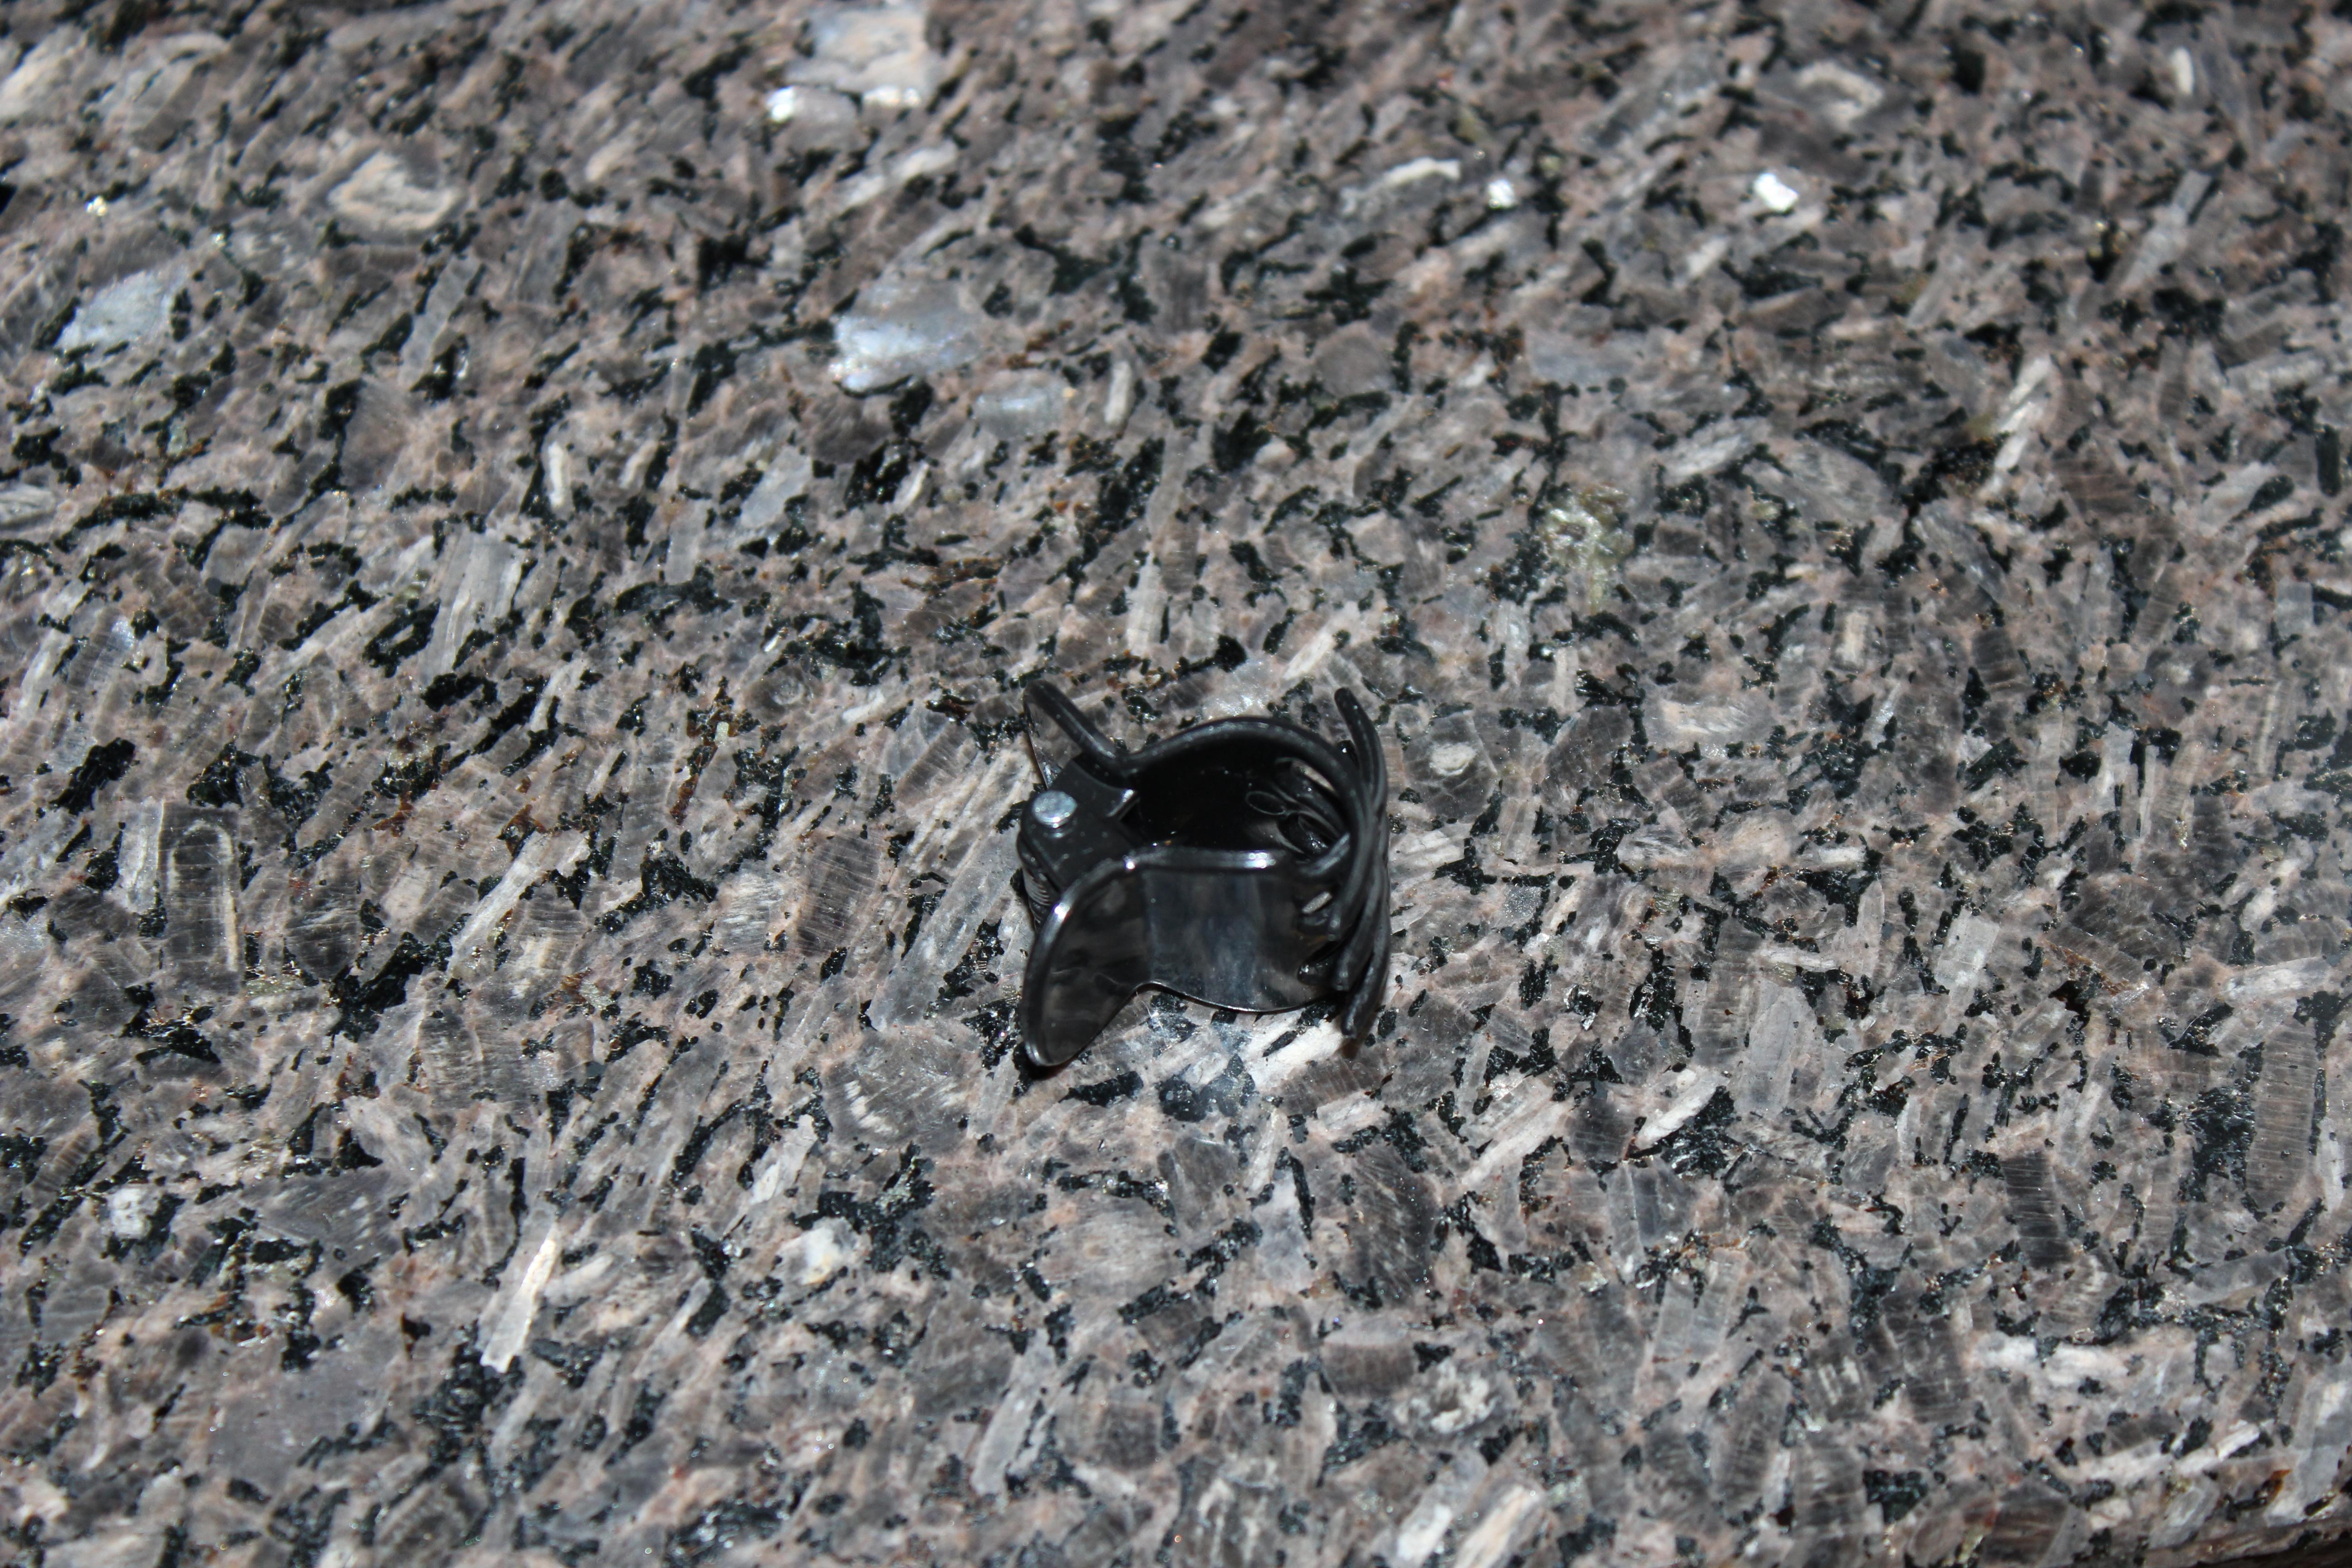hairClip: (963, 653, 1435, 1097)
